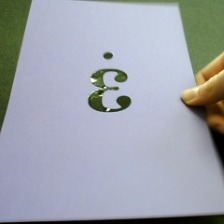violet3: (79, 47, 138, 118)
